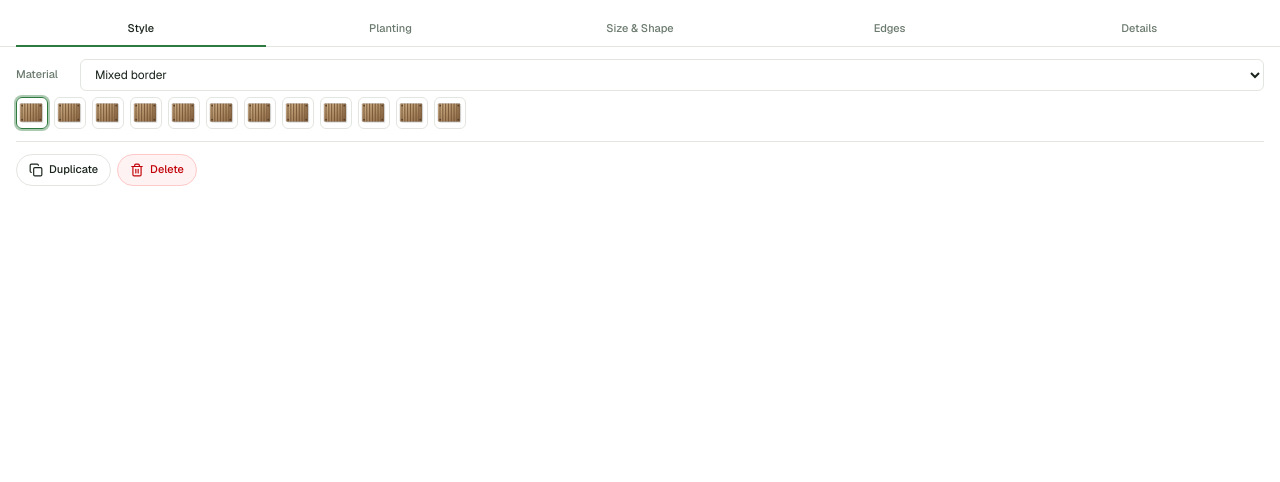
Test: the Edges tab › opens the boundary for editing, and shows what Auto chose and why
Click the tab with test id "element-tab-edges": (890, 29) [765, 12, 1014, 46]
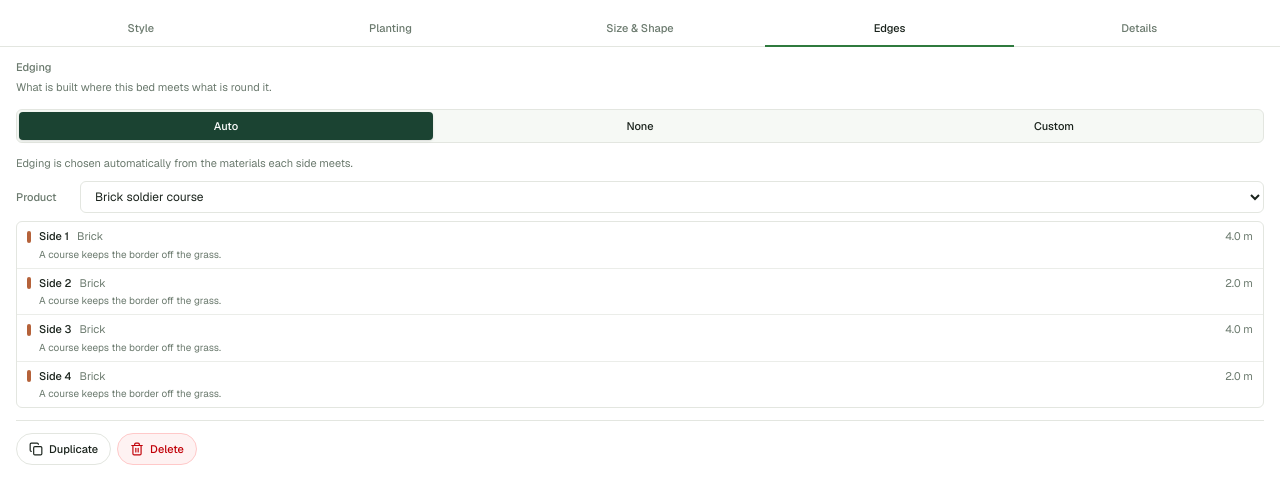
Expected: the element with test id "edges-auto" shows "chosen automatically", [16, 156, 353, 170]
Expected: the number of list items with test id "edges-auto-run" is 4, [17, 222, 1263, 269]; [17, 269, 1263, 315]; [17, 315, 1263, 362]; [17, 362, 1263, 407]
